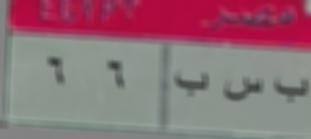6: (102, 55, 130, 92), (44, 53, 70, 90)
baa: (173, 65, 211, 103), (271, 71, 311, 106)
seen: (223, 71, 265, 109)
